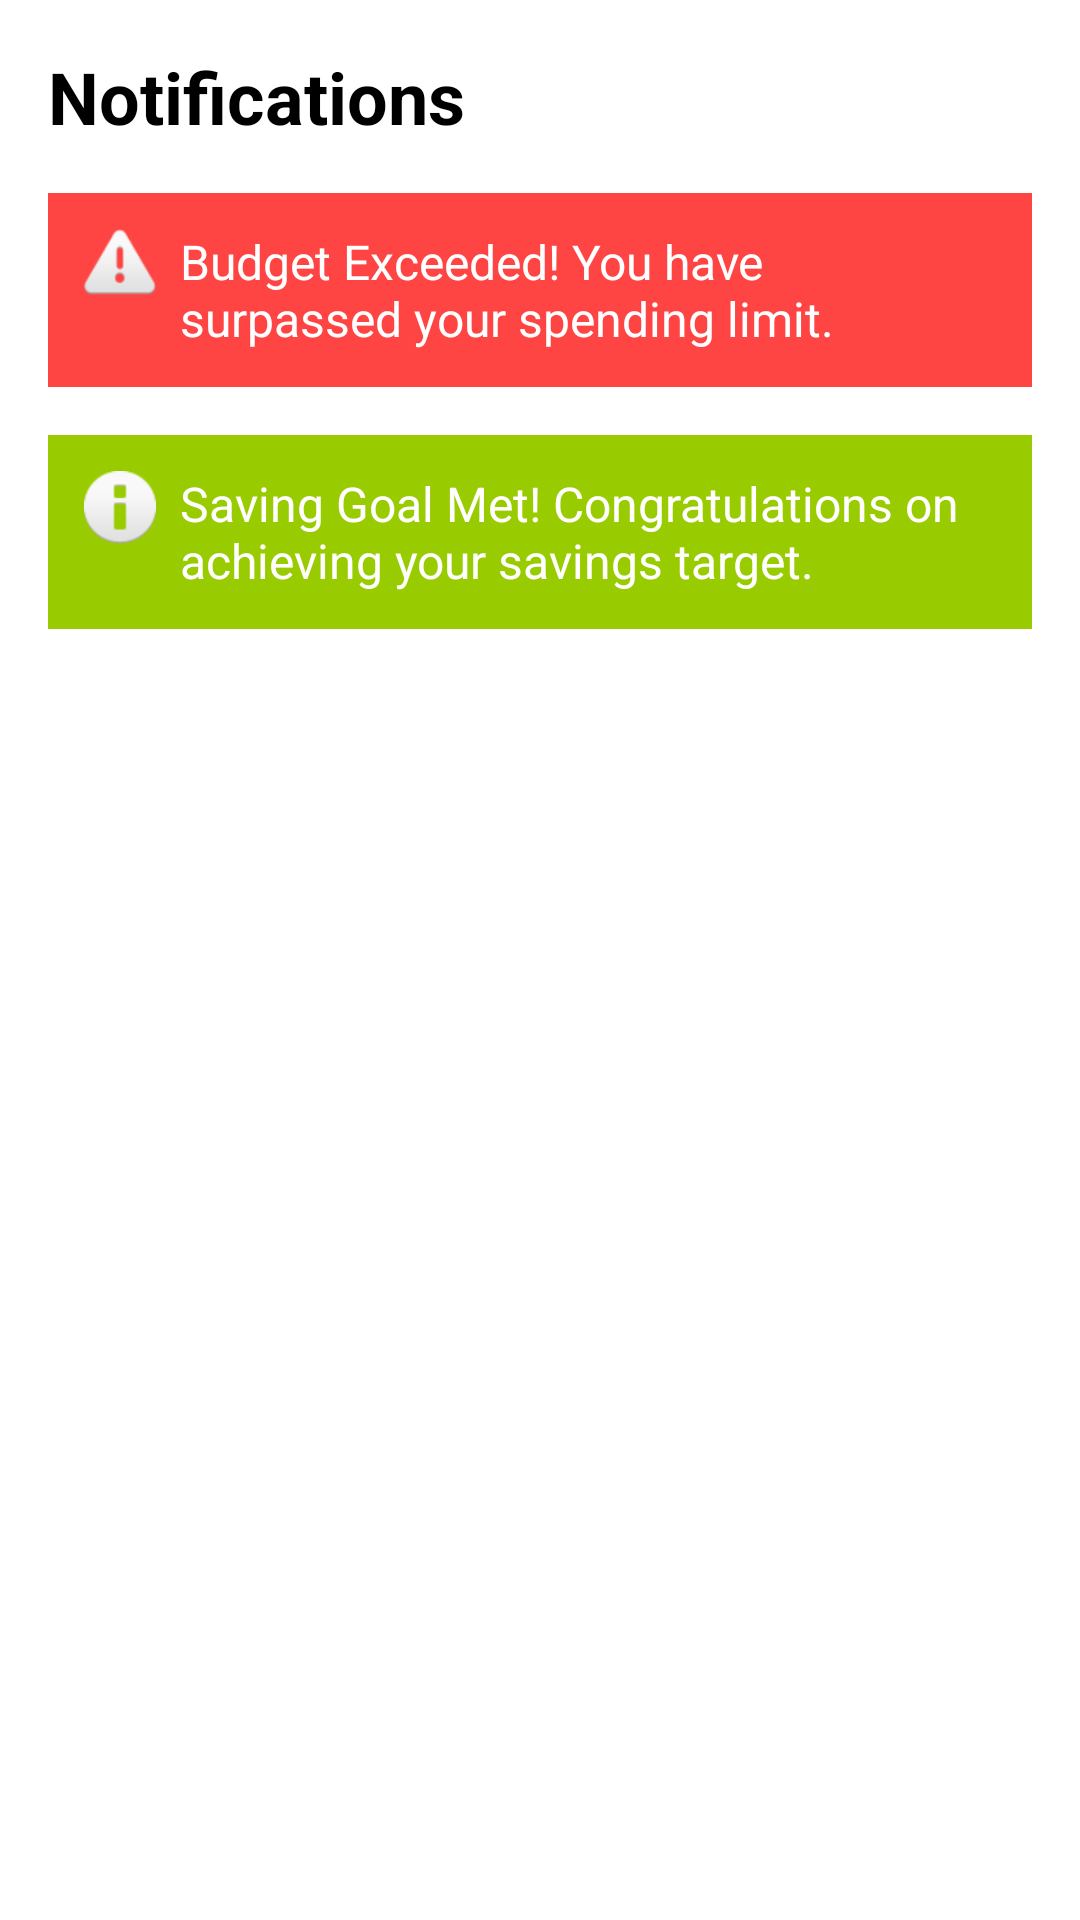

Icon click points for this 1080×1920 phone screenshot, format [x,y]:
Warning Icon: [120,261]
